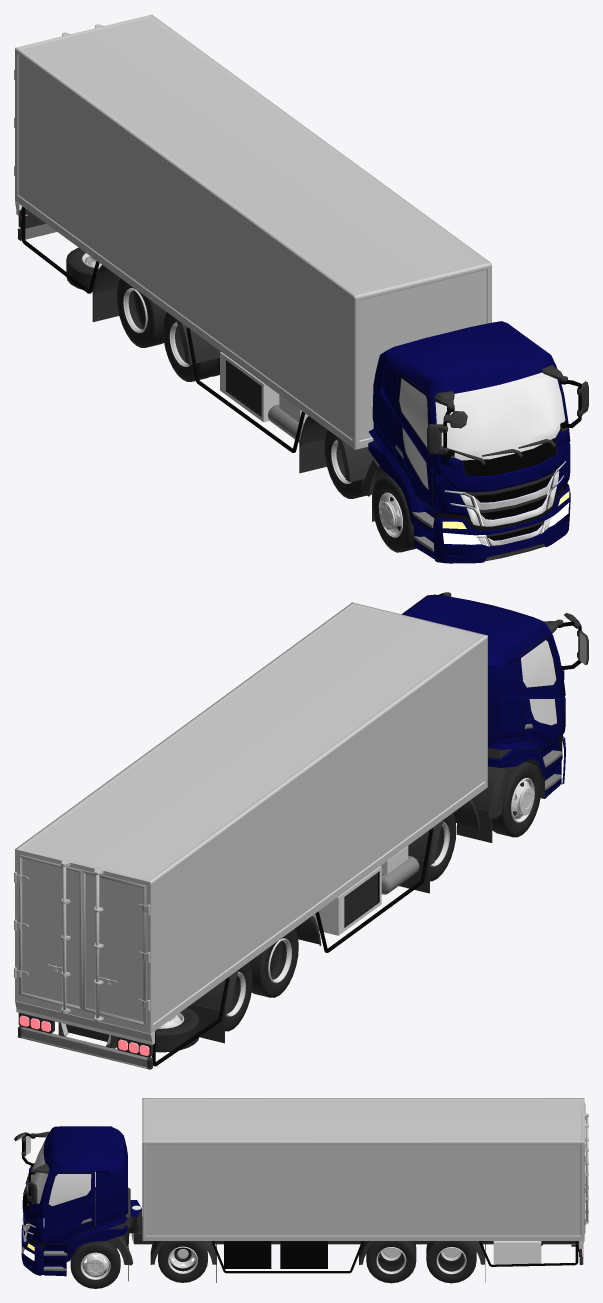
Rendered from truck.glb.
3 views of the same model, one above another, from view 1: azimuth 30°, elevation 25°; view 2: azimuth 150°, elevation 25°; view 3: azimuth 270°, elevation 25° (orthographic). The views are drawn at different scales.
Parts seen in each view (by area): view 1: Truck_body_Truck_body.L_3, Truck_head_Truck_head.L_1, wheels_Circle.006_20, wheels_Circle.027_9, wheels_Circle.010_18, wheels_Circle.028_11, wheels_Circle.026_8; view 2: Truck_body_Truck_body.L_3, Truck_head_Truck_head.L_1, wheels_Circle.010_18, wheels_Circle.027_9, wheels_Circle.006_20, wheels_Circle.028_11, wheels_Circle.026_8; view 3: Truck_body_Truck_body.L_3, Truck_head_Truck_head.L_1, wheels_Circle.013_26, wheels_Circle.008_23, wheels_Circle.001_5, wheels_Circle.025_15, wheels_Circle.002_6, wheels_Circle.024_14, wheels_Circle.014_27, wheels_Circle.012_24.
Boxes of the visible parts, left/top/right/bottom form: Truck_body_Truck_body.L_3: left=14, top=14, right=491, bottom=482; Truck_head_Truck_head.L_1: left=363, top=321, right=588, bottom=563; wheels_Circle.006_20: left=116, top=278, right=166, bottom=347; wheels_Circle.027_9: left=372, top=476, right=415, bottom=552; wheels_Circle.010_18: left=163, top=312, right=219, bottom=381; wheels_Circle.028_11: left=324, top=430, right=366, bottom=498; wheels_Circle.026_8: left=379, top=492, right=402, bottom=537; Truck_body_Truck_body.L_3: left=14, top=602, right=487, bottom=1069; Truck_head_Truck_head.L_1: left=402, top=592, right=588, bottom=842; wheels_Circle.010_18: left=249, top=929, right=298, bottom=997; wheels_Circle.027_9: left=492, top=761, right=541, bottom=837; wheels_Circle.006_20: left=225, top=962, right=252, bottom=1031; wheels_Circle.028_11: left=430, top=813, right=456, bottom=881; wheels_Circle.026_8: left=511, top=778, right=534, bottom=822; Truck_body_Truck_body.L_3: left=131, top=1098, right=588, bottom=1282; Truck_head_Truck_head.L_1: left=14, top=1126, right=141, bottom=1281; wheels_Circle.013_26: left=426, top=1241, right=476, bottom=1283; wheels_Circle.008_23: left=366, top=1241, right=416, bottom=1283; wheels_Circle.001_5: left=70, top=1240, right=120, bottom=1288; wheels_Circle.025_15: left=158, top=1241, right=207, bottom=1282; wheels_Circle.002_6: left=80, top=1252, right=110, bottom=1279; wheels_Circle.024_14: left=168, top=1246, right=197, bottom=1273; wheels_Circle.014_27: left=436, top=1247, right=466, bottom=1274; wheels_Circle.012_24: left=376, top=1247, right=406, bottom=1274.
Bounding box in the file's own units: 3.45 × 4.51 × 15.91.
